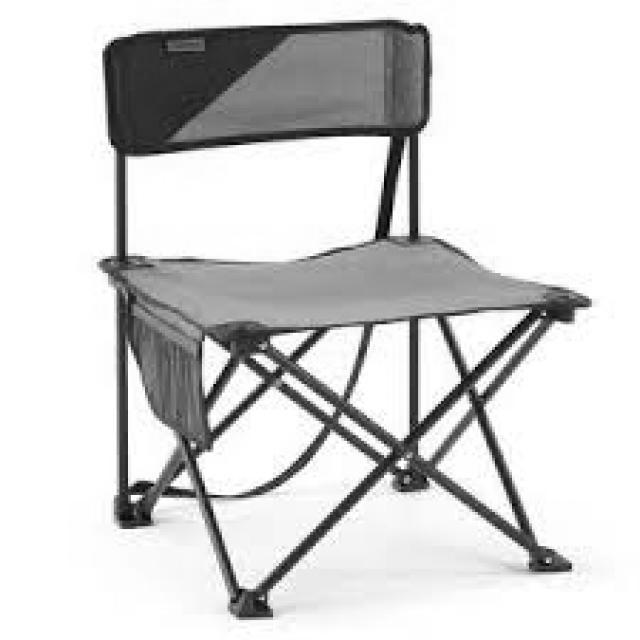chair: (99, 15, 596, 621)
